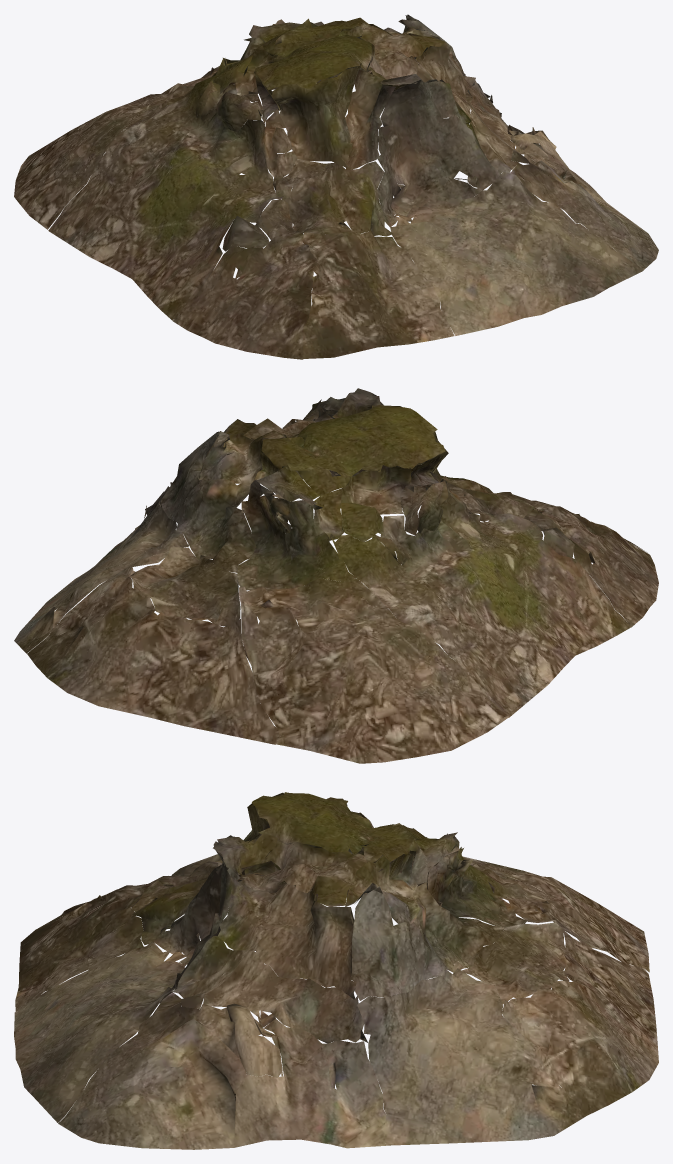
Rendered from stump.glb.
3 views of the same model, one above another, from view 1: azimuth 30°, elevation 25°; view 2: azimuth 150°, elevation 25°; view 3: azimuth 270°, elevation 25° (orthographic). The views are drawn at different scales.
Parts seen in each view (by area): view 1: StumpMesh; view 2: StumpMesh; view 3: StumpMesh.
Boxes of the visible parts, x1,y1,x2,y2 form: StumpMesh: (14,14,658,359); StumpMesh: (14,388,658,763); StumpMesh: (14,792,658,1149).
Size of the model in its own units: 1.42 by 0.5708 by 1.59.
Materials: 1 (1 with a texture image).
